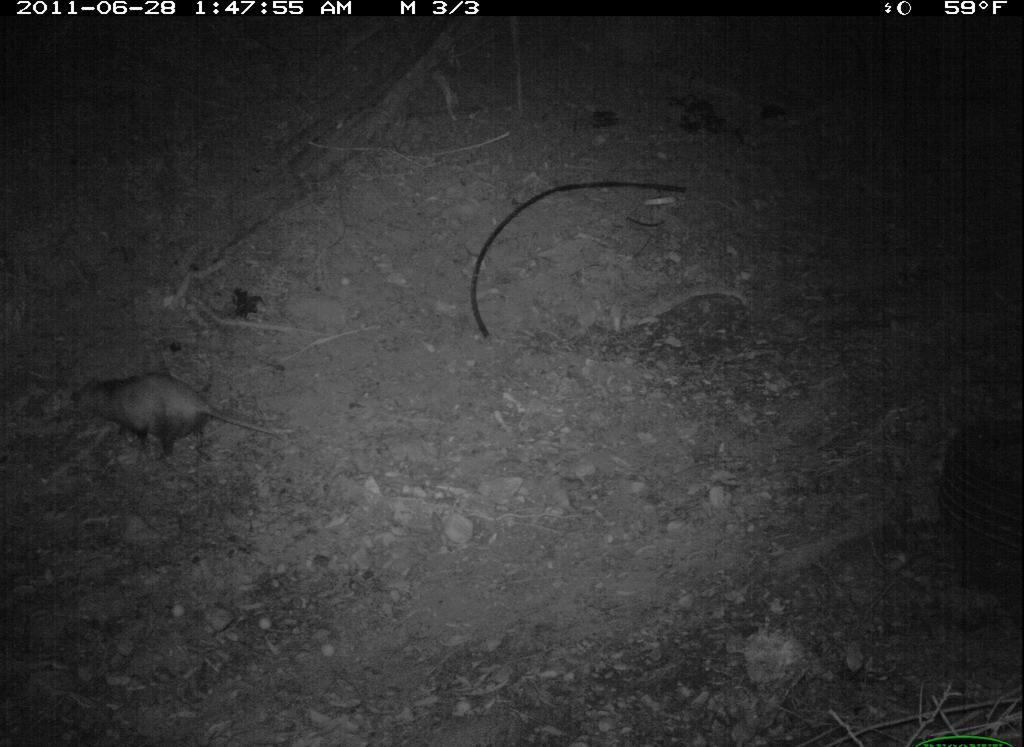opossum: (50, 364, 304, 472)
